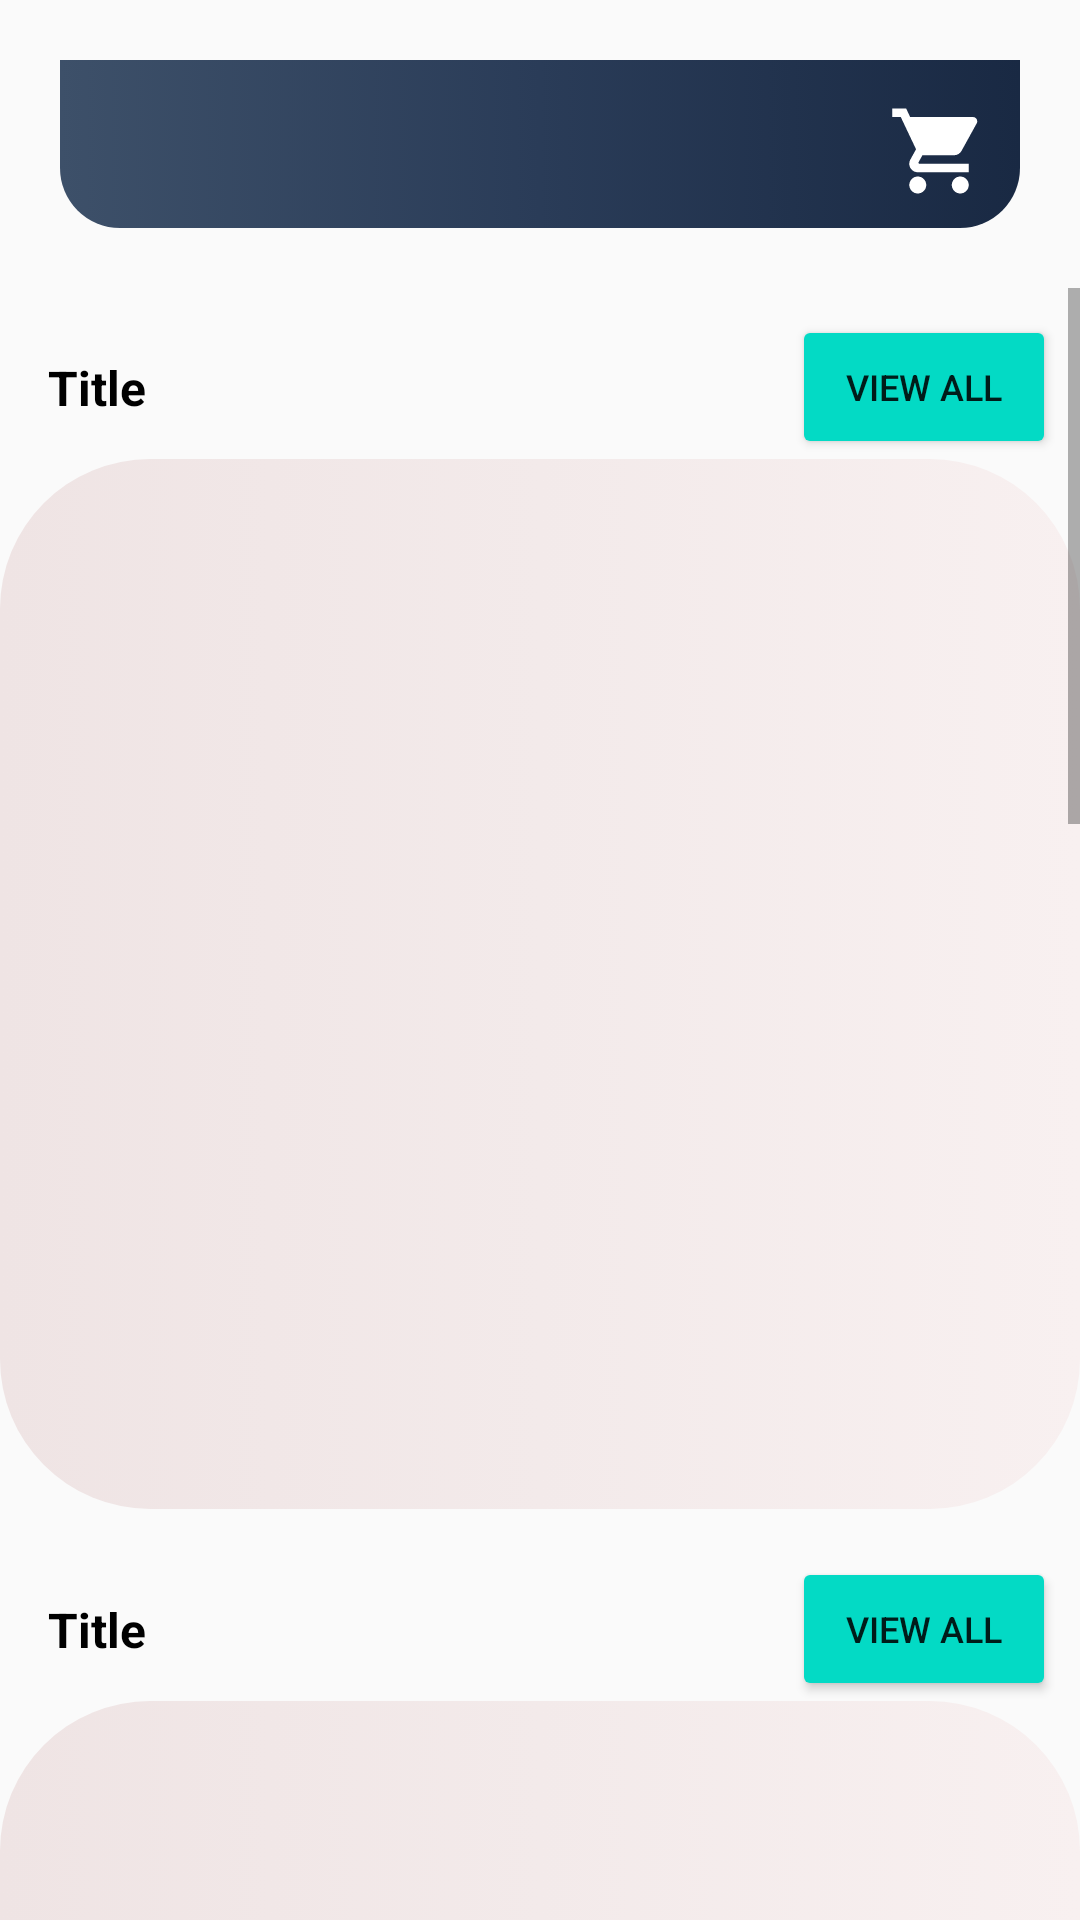

Icons on this 1080*1920 Android screen, each with its box as (x1=x1, y1=y1, x2=x2, y2=y2):
cart: (x1=892, y1=108, x2=978, y2=194)
